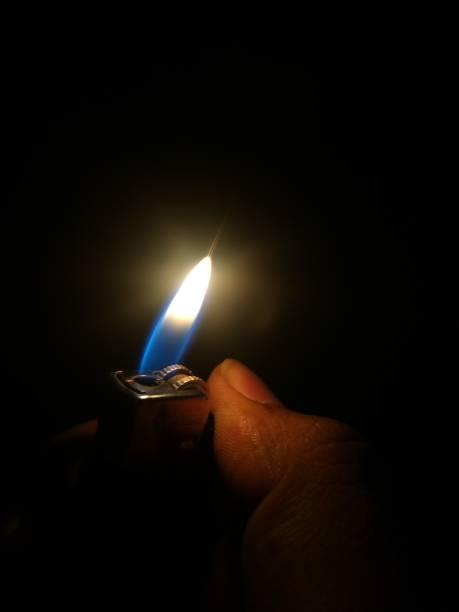Fire: (133, 246, 221, 380)
